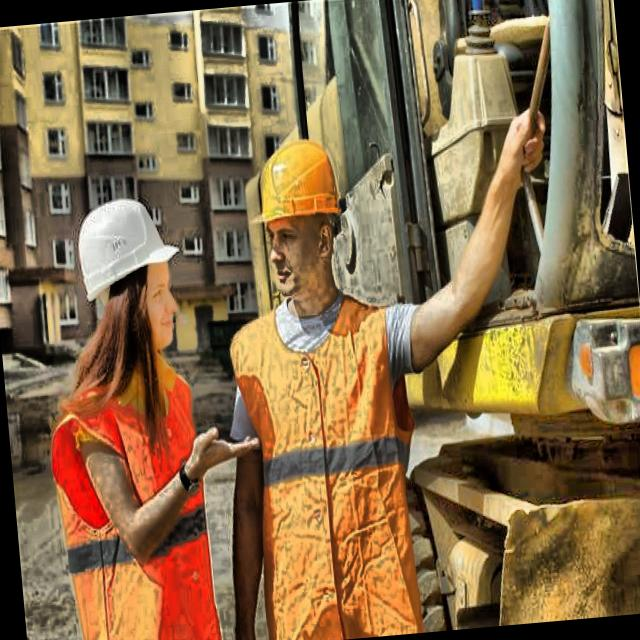helmet: (54, 172, 192, 386), (239, 109, 366, 318)
